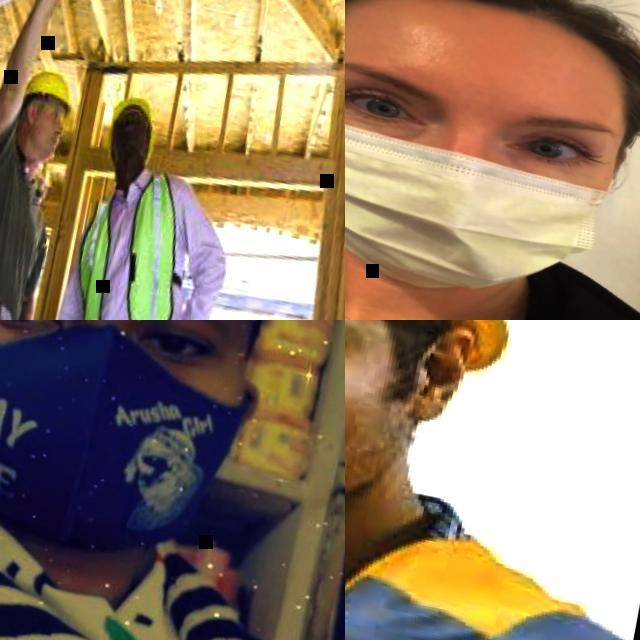helmet: (104, 91, 161, 163), (25, 68, 81, 108)
vest: (345, 438, 640, 640), (58, 161, 194, 320)
